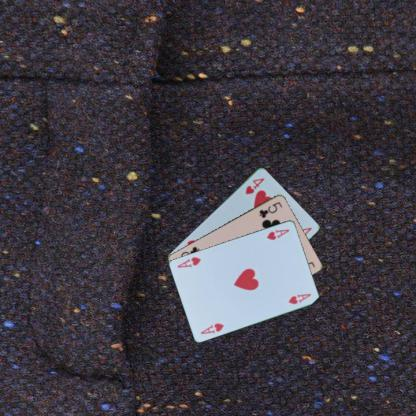4h: (243, 175, 266, 195)
5c: (257, 199, 284, 219)
Ah: (264, 226, 291, 241), (198, 320, 225, 335)
